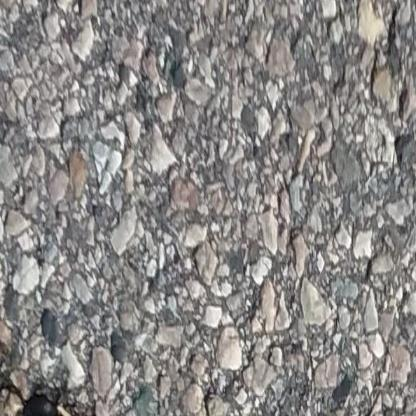Cracks: (0, 379, 118, 416)
